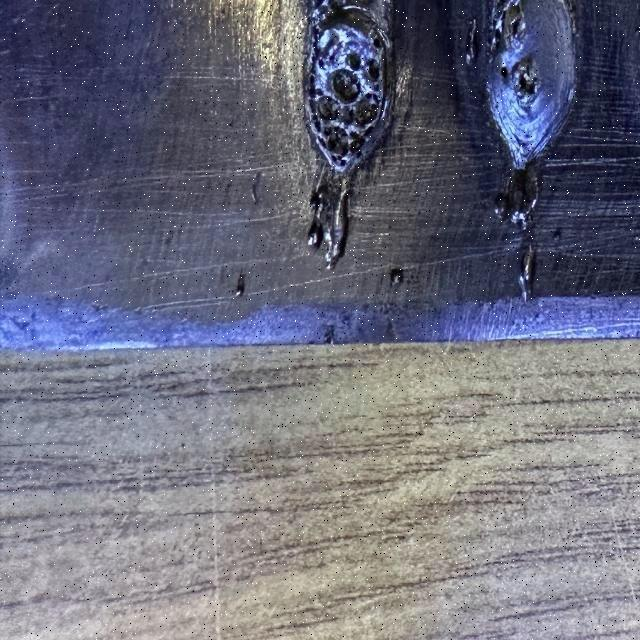Porosity: (332, 70, 360, 102), (308, 74, 322, 131), (354, 97, 378, 125), (327, 127, 350, 156), (318, 95, 338, 120), (349, 131, 366, 153), (519, 72, 534, 95), (346, 52, 361, 70), (330, 153, 347, 167), (369, 58, 379, 80), (512, 16, 523, 36), (495, 29, 502, 52), (500, 65, 509, 80), (327, 52, 337, 63), (319, 58, 326, 69), (374, 38, 380, 48), (501, 10, 506, 22)
Spatters: (330, 186, 349, 269), (513, 172, 539, 228), (519, 245, 535, 302), (308, 220, 322, 248), (494, 192, 508, 218), (251, 172, 262, 203), (390, 268, 404, 285), (236, 272, 245, 297)
